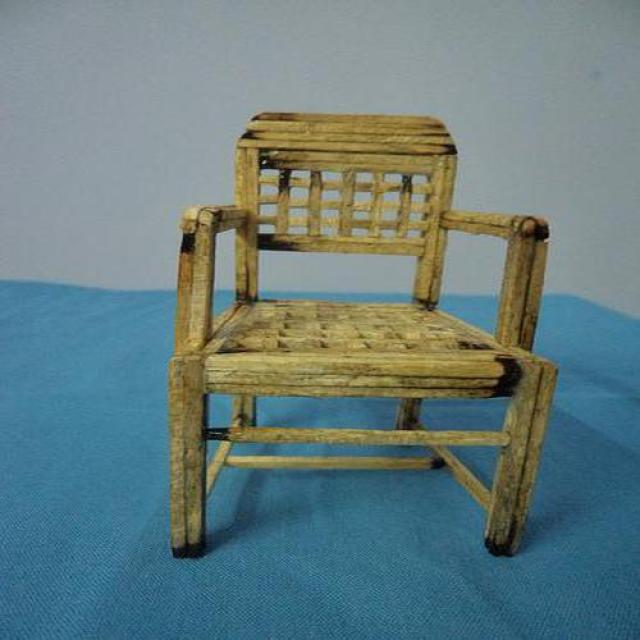chair: (166, 113, 559, 562)
